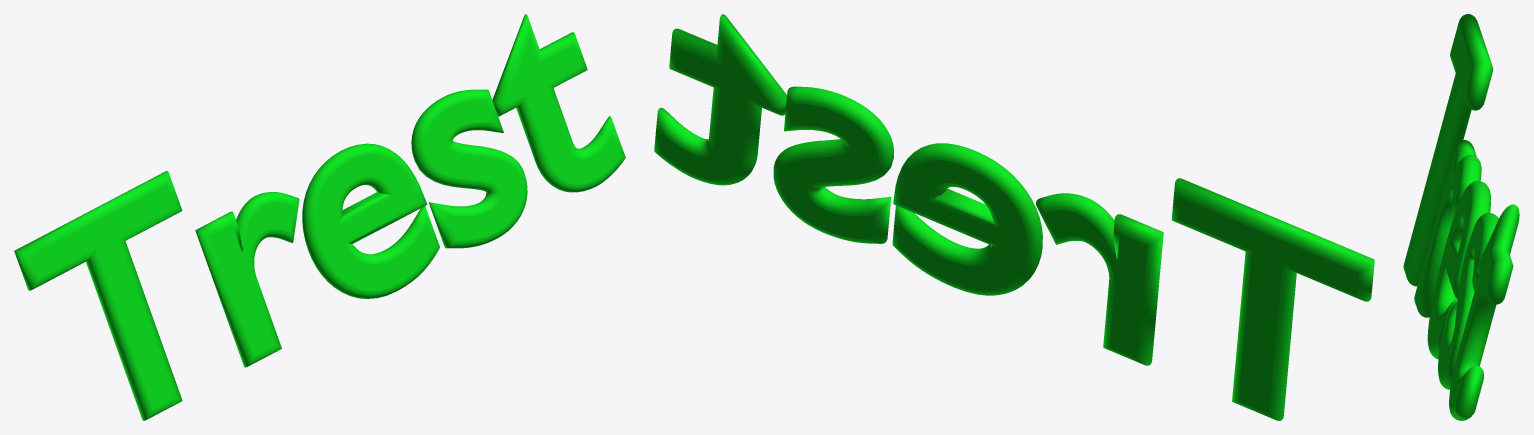
Rendered from LB09_miss01.glb.
The picture shows the model from 3 angles, left to right: view 1: azimuth 30°, elevation 25°; view 2: azimuth 150°, elevation 25°; view 3: azimuth 270°, elevation 25°; orthographic projection. The views are drawn at different scales.
Visible parts, largest first — view 1: Text; view 2: Text; view 3: Text.
Part boxes in pixels (bbox=[...]): Text: bbox=[14, 14, 625, 420]; Text: bbox=[654, 14, 1374, 420]; Text: bbox=[1403, 14, 1519, 420].
Size of the model in its own units: 2.34 by 0.9929 by 0.3374.
